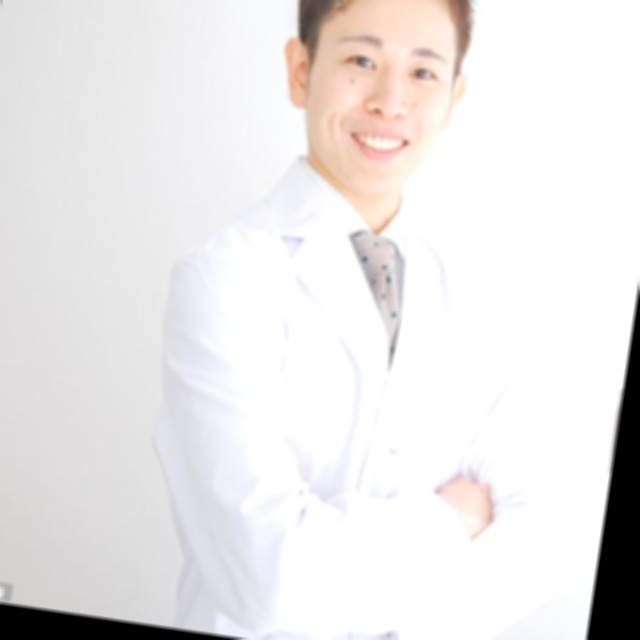Sin_Casco_Mascarrilla: (265, 0, 493, 200)
Sin_Chaleco: (132, 172, 525, 640)
